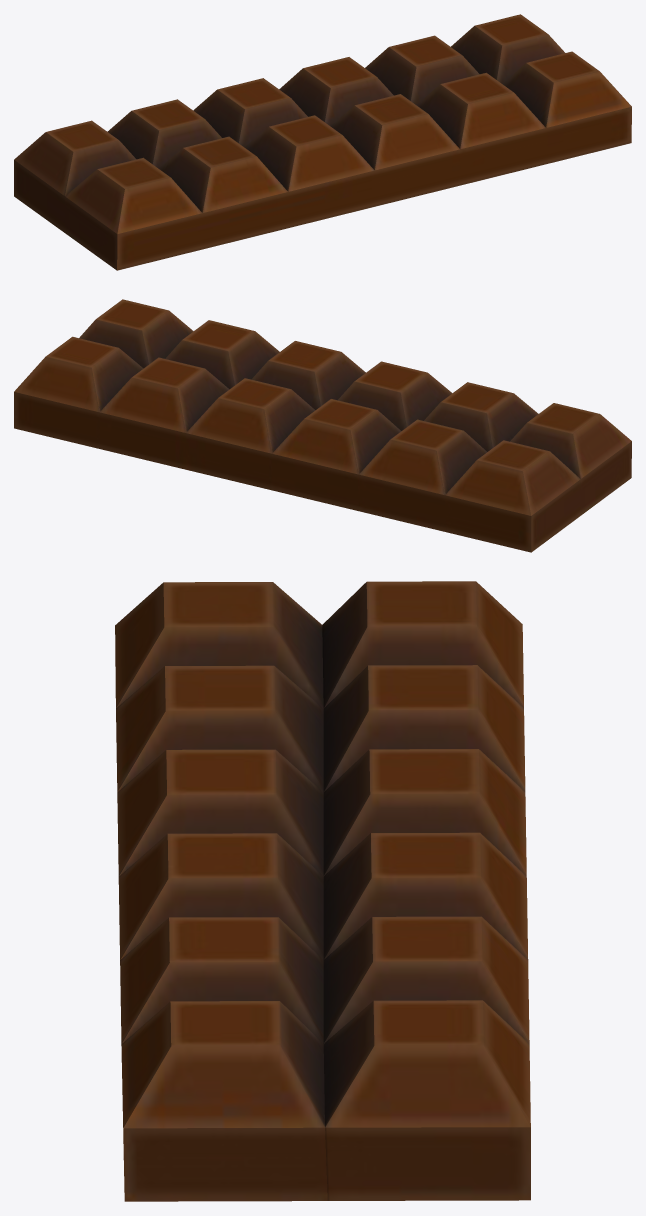
The model's file is chocolate.glb.
3 views of the same model, one above another, from view 1: azimuth 30°, elevation 25°; view 2: azimuth 150°, elevation 25°; view 3: azimuth 270°, elevation 25° (orthographic). The views are drawn at different scales.
Parts seen in each view (by area): view 1: Chocolate; view 2: Chocolate; view 3: Chocolate.
Boxes of the visible parts, box(x1,y1,x2,y2) form: Chocolate: box(14, 14, 631, 270); Chocolate: box(14, 299, 631, 552); Chocolate: box(115, 581, 530, 1201).
Bounding box in the file's own units: 0.2331 × 0.0293 × 0.0813.
1 material, 1 textured.
